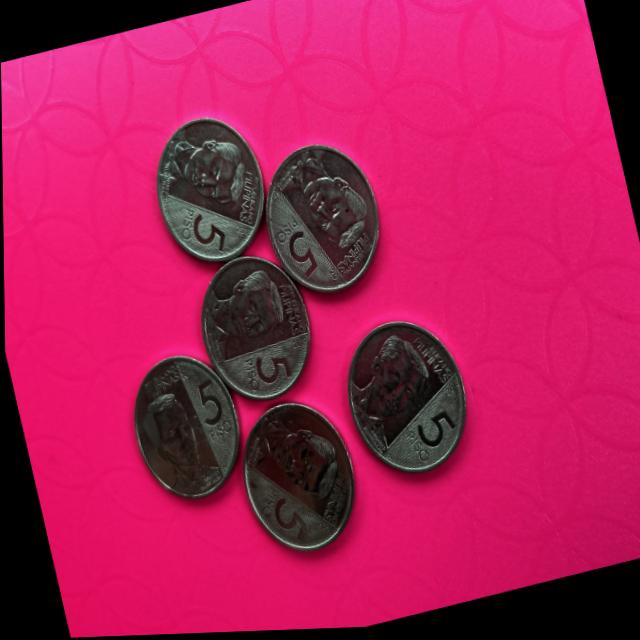5_New_Front: (391, 396, 470, 481), (253, 477, 318, 551), (267, 218, 323, 295), (231, 344, 301, 405), (172, 201, 234, 266), (188, 371, 236, 450)
